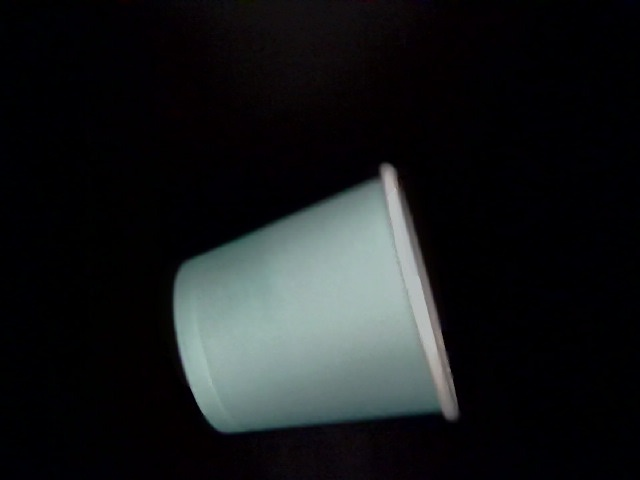KHSLJ: (3, 103, 476, 480)
